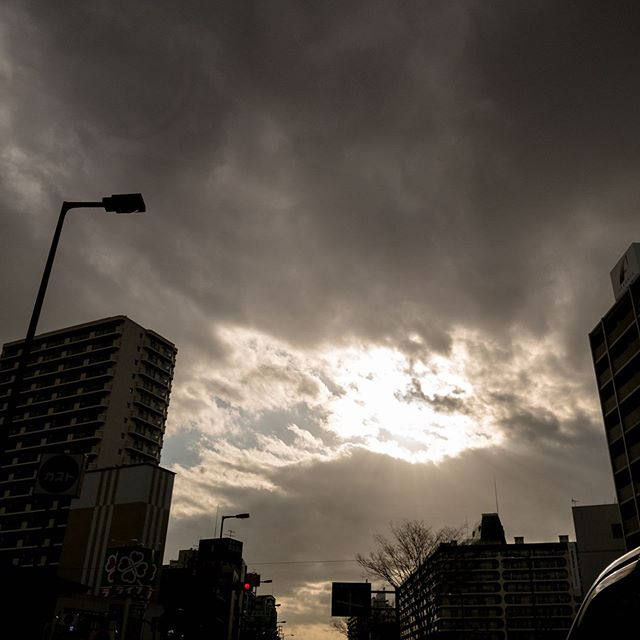building: (1, 322, 193, 640), (31, 476, 180, 625), (383, 534, 579, 640), (574, 239, 640, 550)
light pole: (1, 178, 157, 467)
sky: (124, 1, 571, 528)
